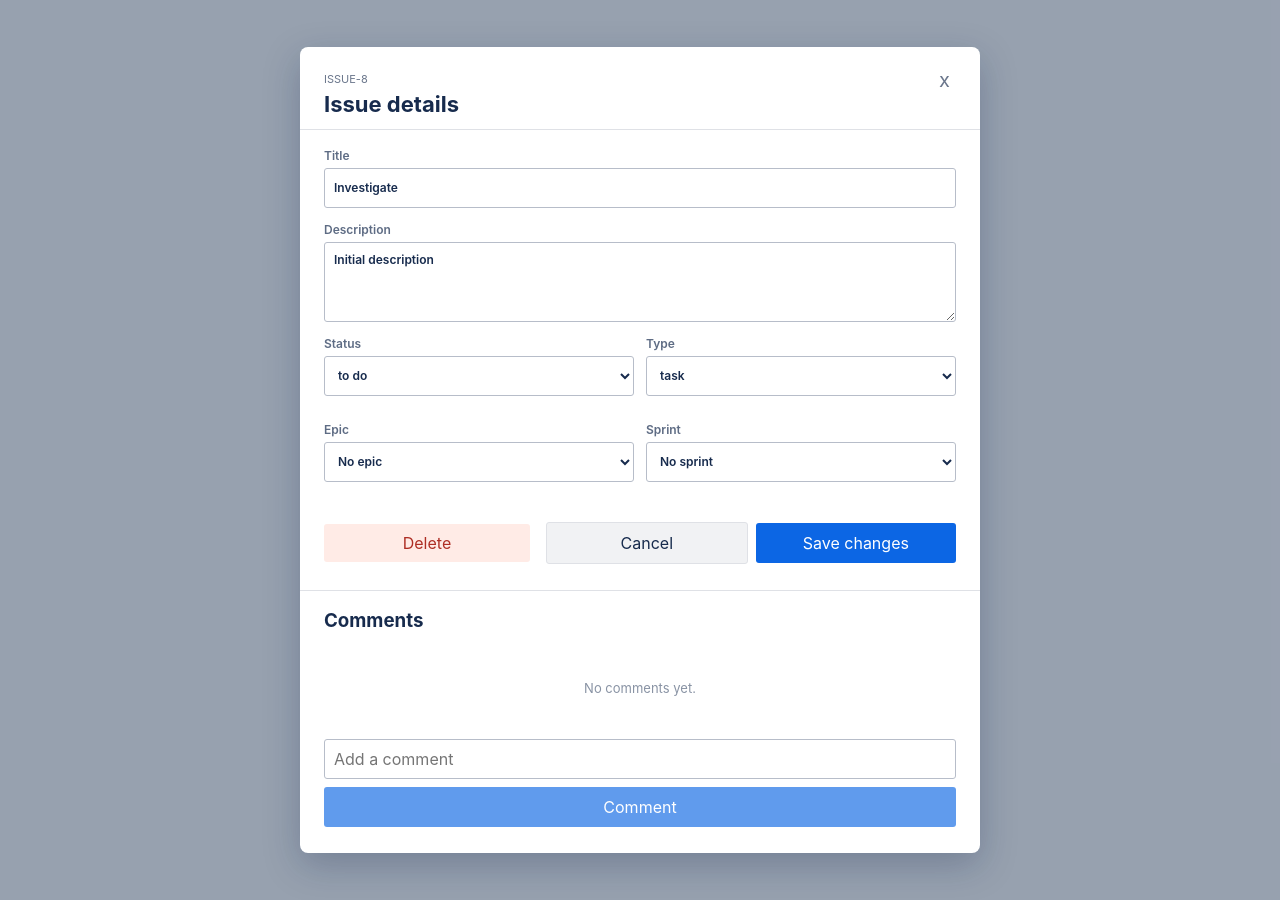
IssueDetailModal › loads comments, saves issue fields, and adds a comment
This screenshot has width=1280, height=900.
Expected: the text "No comments yet." is shown, 584,680 -> 696,696
Type "Looks good" into the field labelled "Add a comment" at (640, 759), box 324,739 -> 956,779
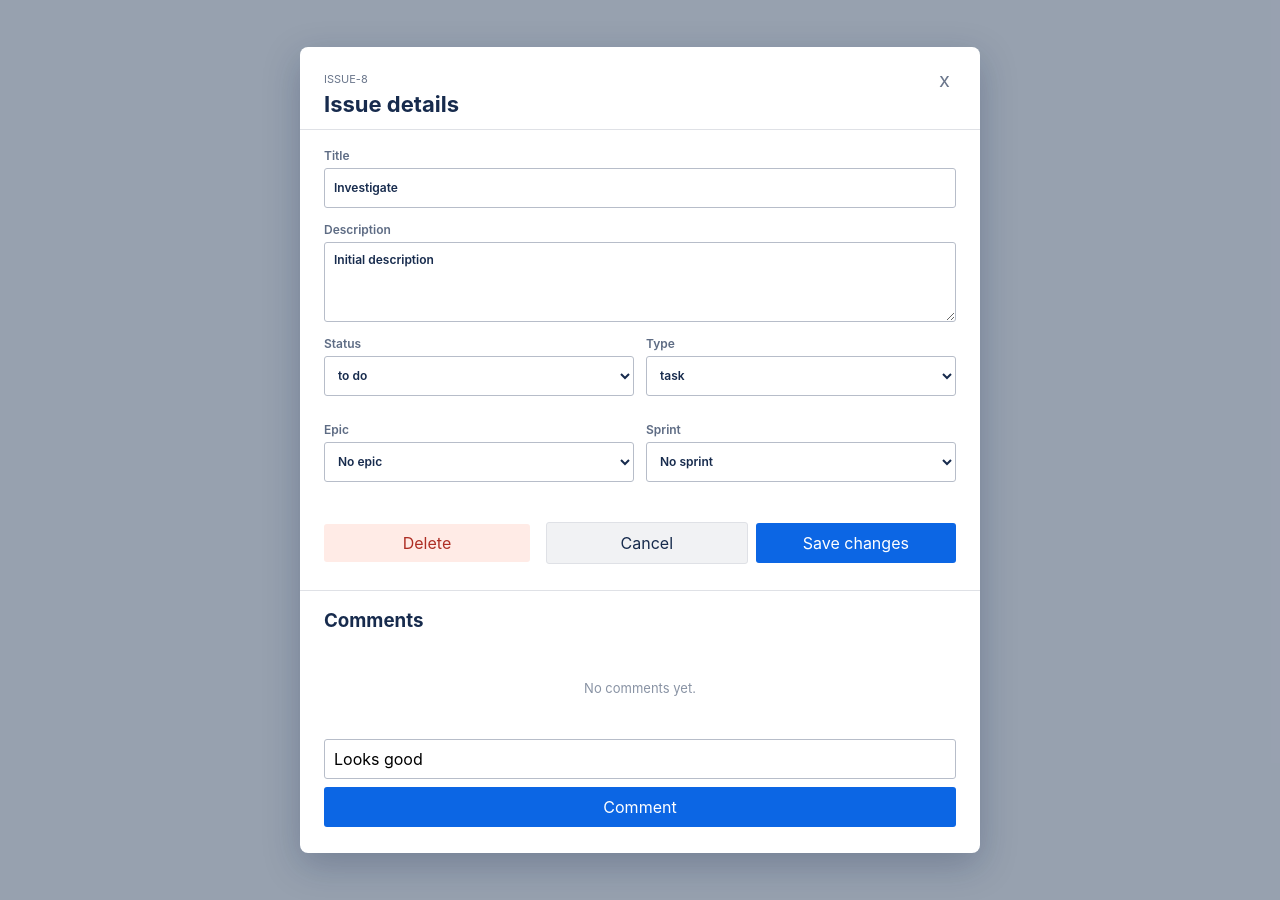
Click the button "Comment" at (640, 807), box 324,787 -> 956,827
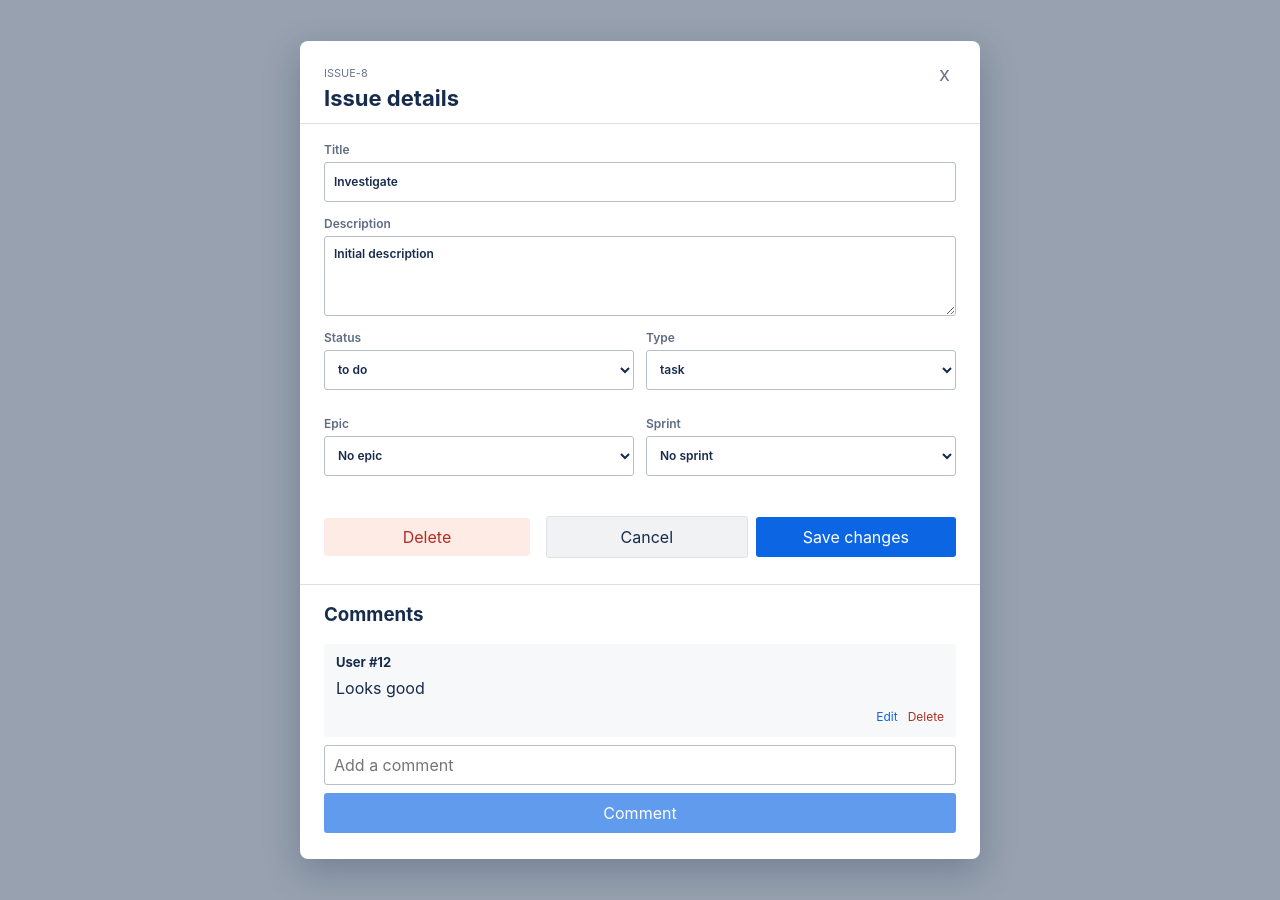
Expected: the text "Looks good" is shown, 336,678 -> 425,698
Replace the text in the field labelled "Title" with "Investigate API" at (640, 182), box 324,162 -> 956,202
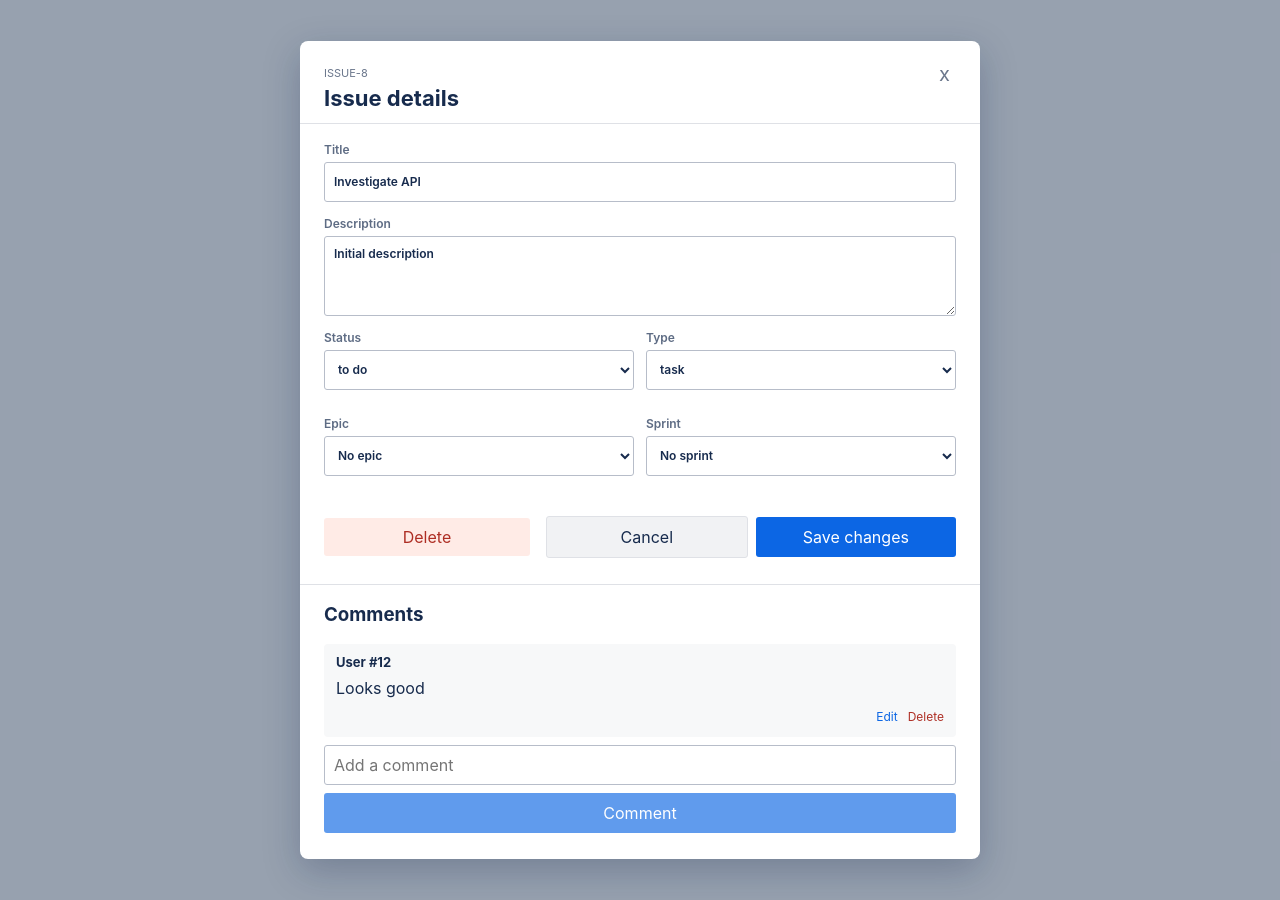
Select "Quality" in the dropdown labelled "Epic" at (479, 456), box 324,436 -> 634,476
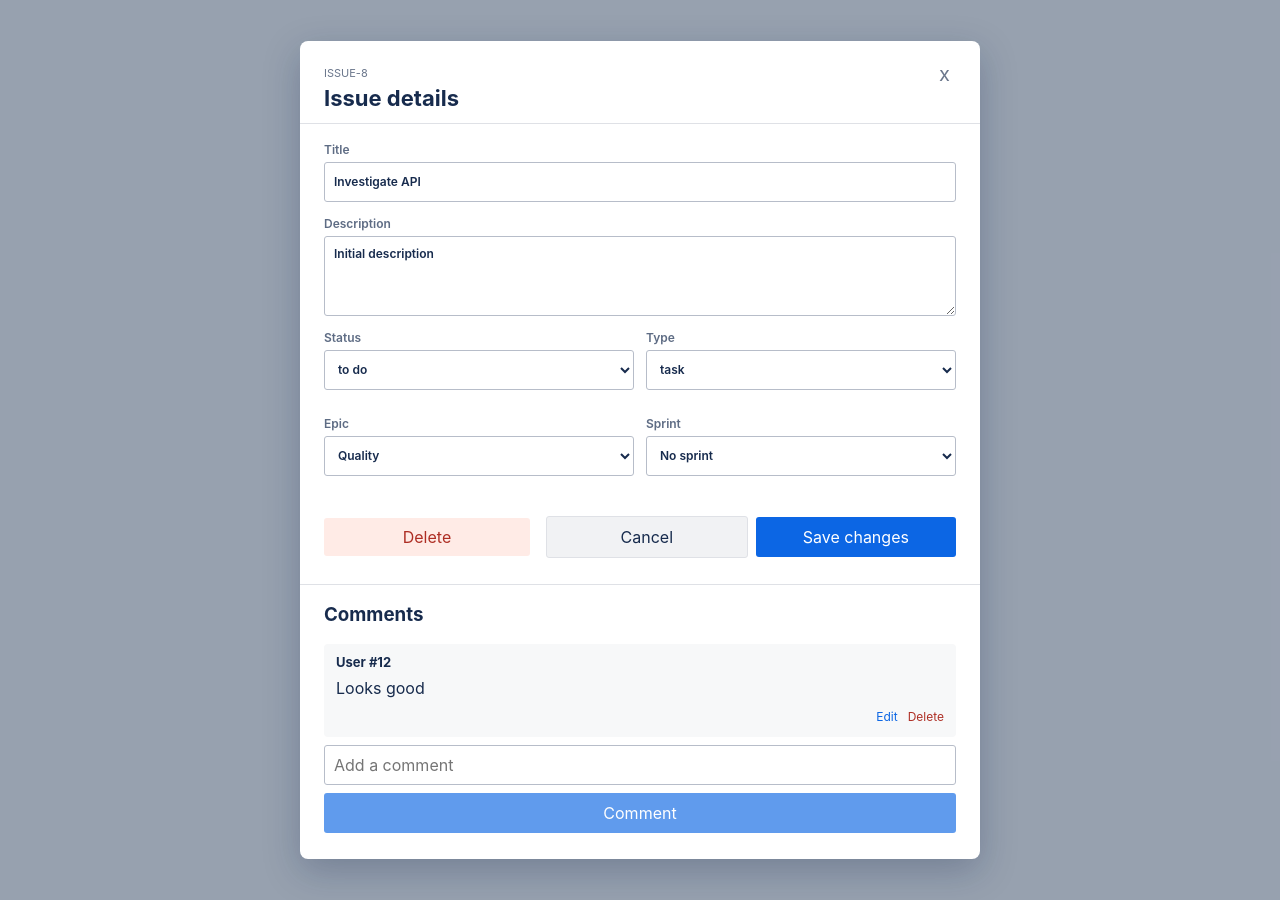
Select "Current sprint" in the dropdown labelled "Sprint" at (801, 456), box 646,436 -> 956,476
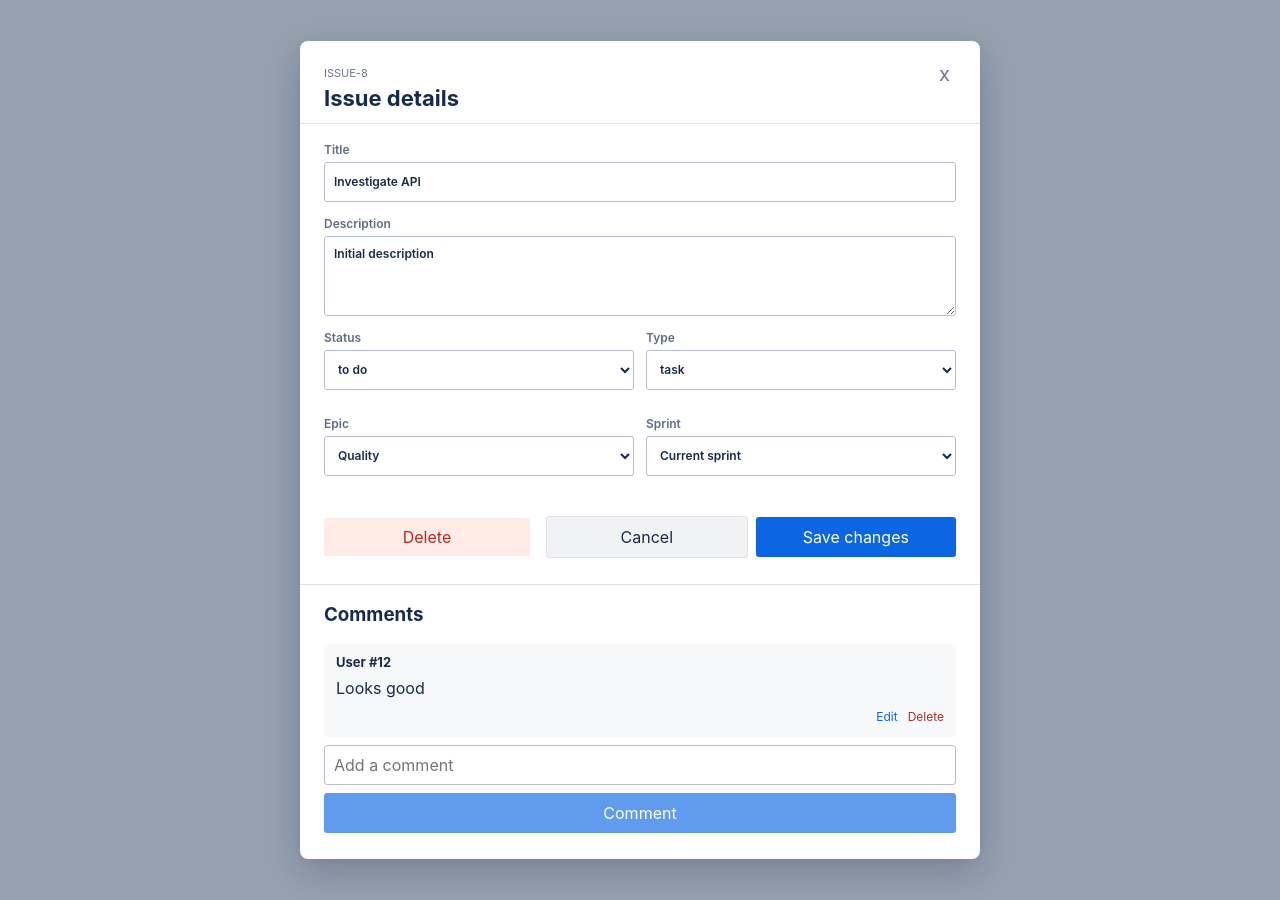
Click the button "Save changes" at (856, 537), box 756,517 -> 956,557
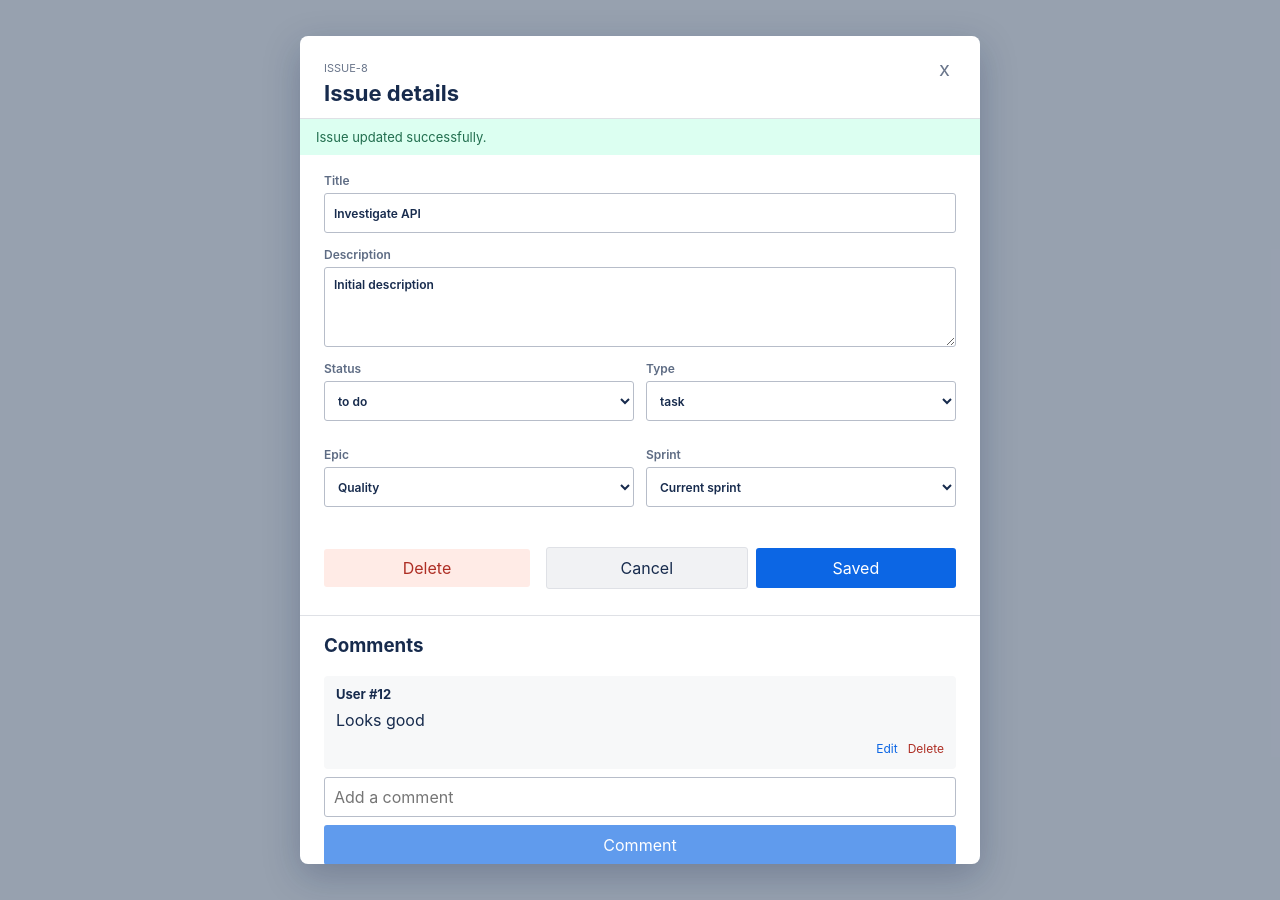
Expected: the message reads "Issue updated successfully.", 316,129 -> 486,145
